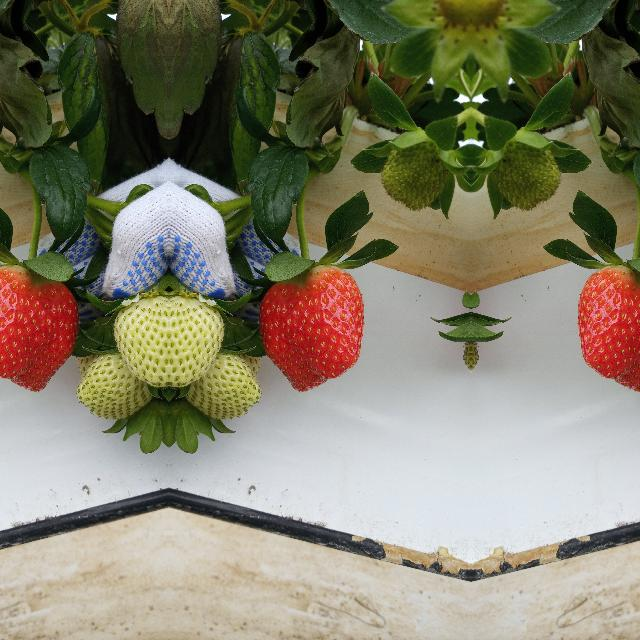Health_100: (258, 264, 364, 392), (0, 264, 78, 392), (576, 264, 640, 392)
Health_25: (168, 294, 230, 390), (106, 294, 168, 390), (176, 357, 260, 421), (76, 357, 160, 421)
